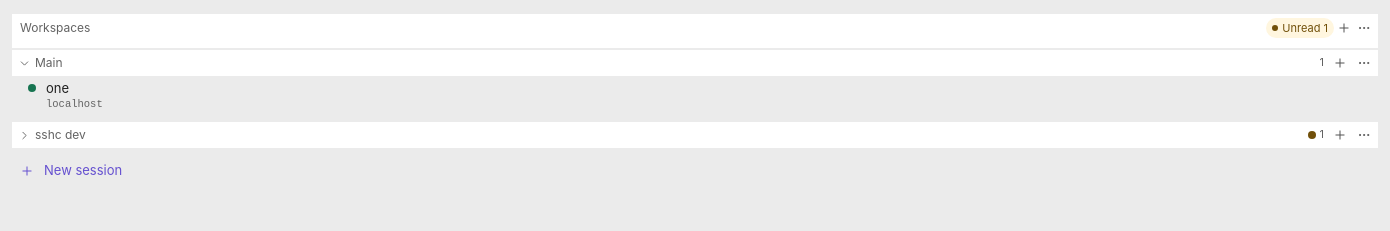
Test case: WorkspaceTree › unfolds the workspace of the unread session it opens
Expected: the text "three" is not shown
Click the button "Unread 1".
click(1300, 28)  # box top-left (1266, 18), bottom-right (1334, 38)
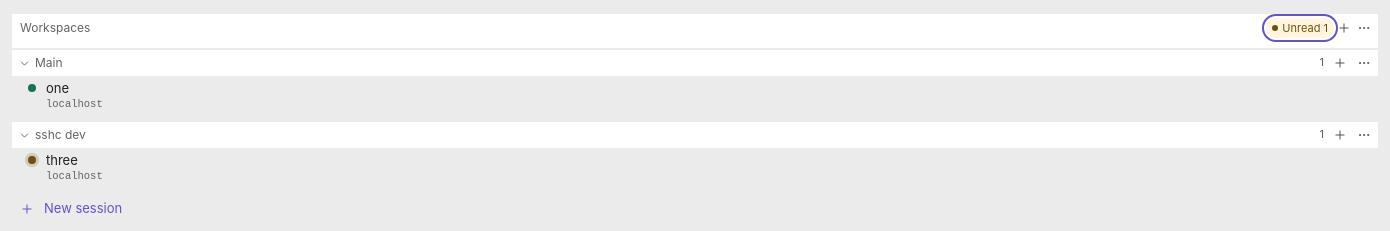
Expected: the text "three" is shown, top-left (46, 151), bottom-right (78, 169)
